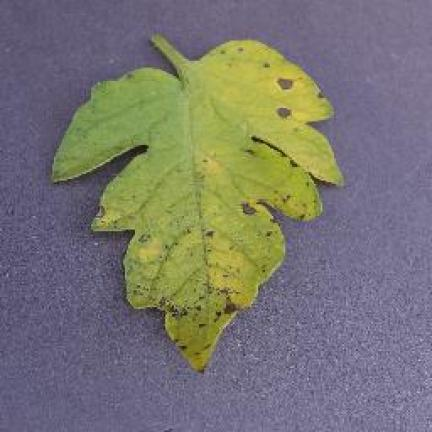disease: (52, 35, 341, 370)
leaf: (130, 154, 251, 293), (125, 250, 246, 368), (217, 43, 326, 173), (239, 169, 320, 218), (209, 42, 248, 60), (263, 62, 268, 66)
